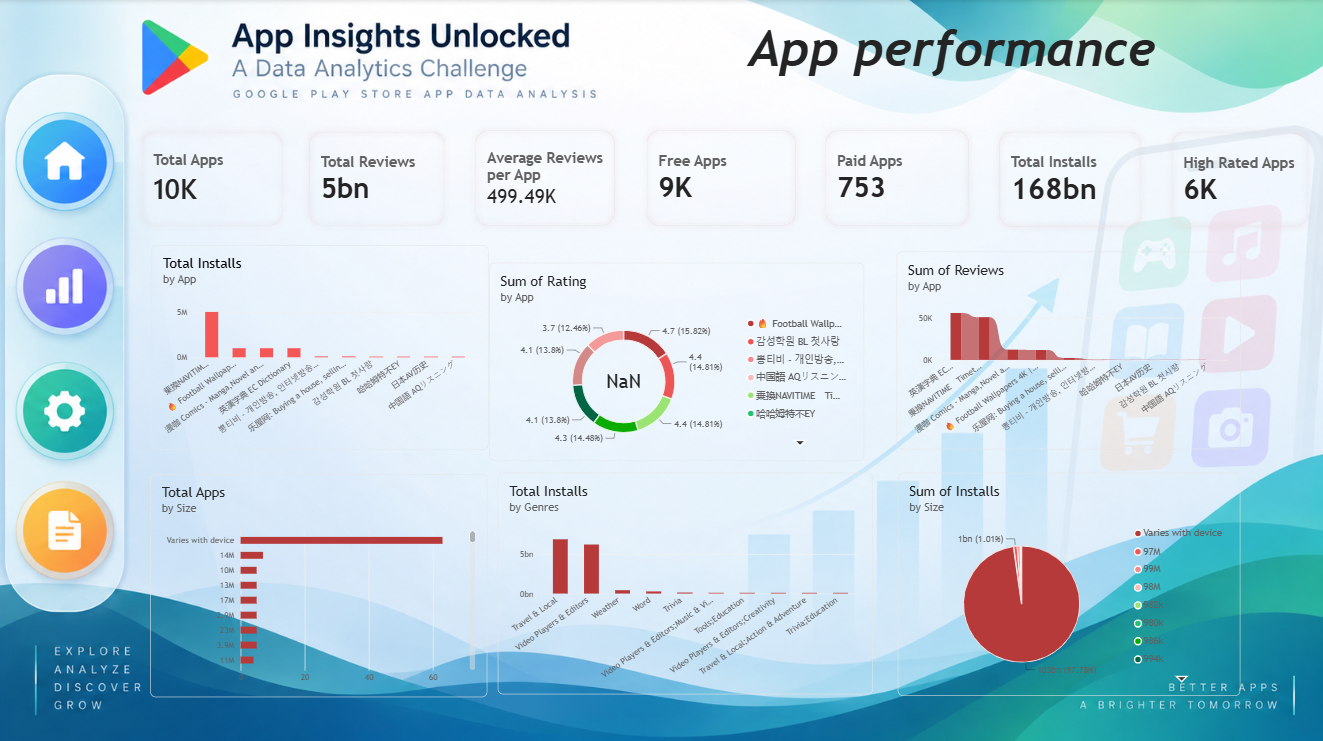

Layout of this report page (visuals, bound fields, positions):
{"tool":"powerbi","page":{"name":"App performance","canvas":[1920,1080],"ordinal":1},"visuals":[{"type":"actionButton","box":[18.5,152.3,154.4,160.5],"z":0},{"type":"actionButton","box":[18.5,339.6,154.4,156.4],"z":1000},{"type":"actionButton","box":[18.5,518.7,154.4,150.3],"z":2000},{"type":"actionButton","box":[18.5,701.9,154.4,133.8],"z":3000},{"type":"cardVisual","fields":{"Data":["Apps.Total Apps"]},"box":[195.5,181.1,226.4,158.5],"z":4000},{"type":"cardVisual","fields":{"Data":["Apps.Total Reviews"]},"box":[438.4,181.1,218.2,158.5],"z":5000},{"type":"cardVisual","fields":{"Data":["Apps.Average Reviews per App"]},"box":[679.2,179.1,224.4,160.5],"z":6000},{"type":"cardVisual","fields":{"Data":["Apps.Free Apps"]},"box":[926.2,179.1,238.8,160.5],"z":7000},{"type":"cardVisual","fields":{"Data":["Apps.Paid Apps"]},"box":[1185.6,179.1,230.5,160.5],"z":8000},{"type":"cardVisual","fields":{"Data":["Apps.Total Installs"]},"box":[1436.7,181.1,228.5,160.5],"z":9000},{"type":"cardVisual","fields":{"Data":["Apps.High Rated Apps"]},"box":[1685.8,181.1,220.2,160.5],"z":10000},{"type":"textbox","box":[903,29,953.7,103.2],"z":11000},{"type":"columnChart","fields":{"Category":["Apps.App"],"Y":["Apps.Total Installs"]},"box":[220.2,356.1,487.8,296.4],"z":12000},{"type":"donutChart","fields":{"Category":["Apps.App"],"Y":["Sum(Apps.Rating)"]},"box":[709.4,381.8,543.4,286.1],"z":13000},{"type":"ribbonChart","fields":{"Category":["Apps.App"],"Y":["Sum(Apps.Reviews)"]},"box":[1298.8,366.4,498.1,286.1],"z":14000},{"type":"scatterChart","fields":{"X":["Sum(Apps.Rating)"],"Y":["Sum(Apps.Reviews)"]},"box":[219,687.7,487.8,323],"z":15000},{"type":"columnChart","fields":{"Category":["Apps.Genres"],"Y":["Apps.Total Installs"]},"box":[722.5,685.4,543.4,321.1],"z":16000},{"type":"pieChart","fields":{"Category":["Apps.Size"],"Y":["Sum(Apps.Installs)"]},"box":[1300.9,685.4,496.1,323.2],"z":17000}]}

Visuals, with their boxes in screenshot pixels (x1, y1, x2, y2), scaled from the page's 1920x1080 canvas onto the 1323x741 screenshot:
actionButton: (left=13, top=104, right=119, bottom=215)
actionButton: (left=13, top=233, right=119, bottom=340)
actionButton: (left=13, top=356, right=119, bottom=459)
actionButton: (left=13, top=482, right=119, bottom=573)
cardVisual - Apps.Total Apps: (left=135, top=124, right=291, bottom=233)
cardVisual - Apps.Total Reviews: (left=302, top=124, right=452, bottom=233)
cardVisual - Apps.Average Reviews per App: (left=468, top=123, right=623, bottom=233)
cardVisual - Apps.Free Apps: (left=638, top=123, right=803, bottom=233)
cardVisual - Apps.Paid Apps: (left=817, top=123, right=976, bottom=233)
cardVisual - Apps.Total Installs: (left=990, top=124, right=1147, bottom=234)
cardVisual - Apps.High Rated Apps: (left=1162, top=124, right=1313, bottom=234)
textbox: (left=622, top=20, right=1279, bottom=91)
columnChart - Apps.App x Apps.Total Installs: (left=152, top=244, right=488, bottom=448)
donutChart - Apps.App x Sum(Apps.Rating): (left=489, top=262, right=863, bottom=458)
ribbonChart - Apps.App x Sum(Apps.Reviews): (left=895, top=251, right=1238, bottom=448)
scatterChart - Sum(Apps.Rating) x Sum(Apps.Reviews): (left=151, top=472, right=487, bottom=693)
columnChart - Apps.Genres x Apps.Total Installs: (left=498, top=470, right=872, bottom=691)
pieChart - Apps.Size x Sum(Apps.Installs): (left=896, top=470, right=1238, bottom=692)
